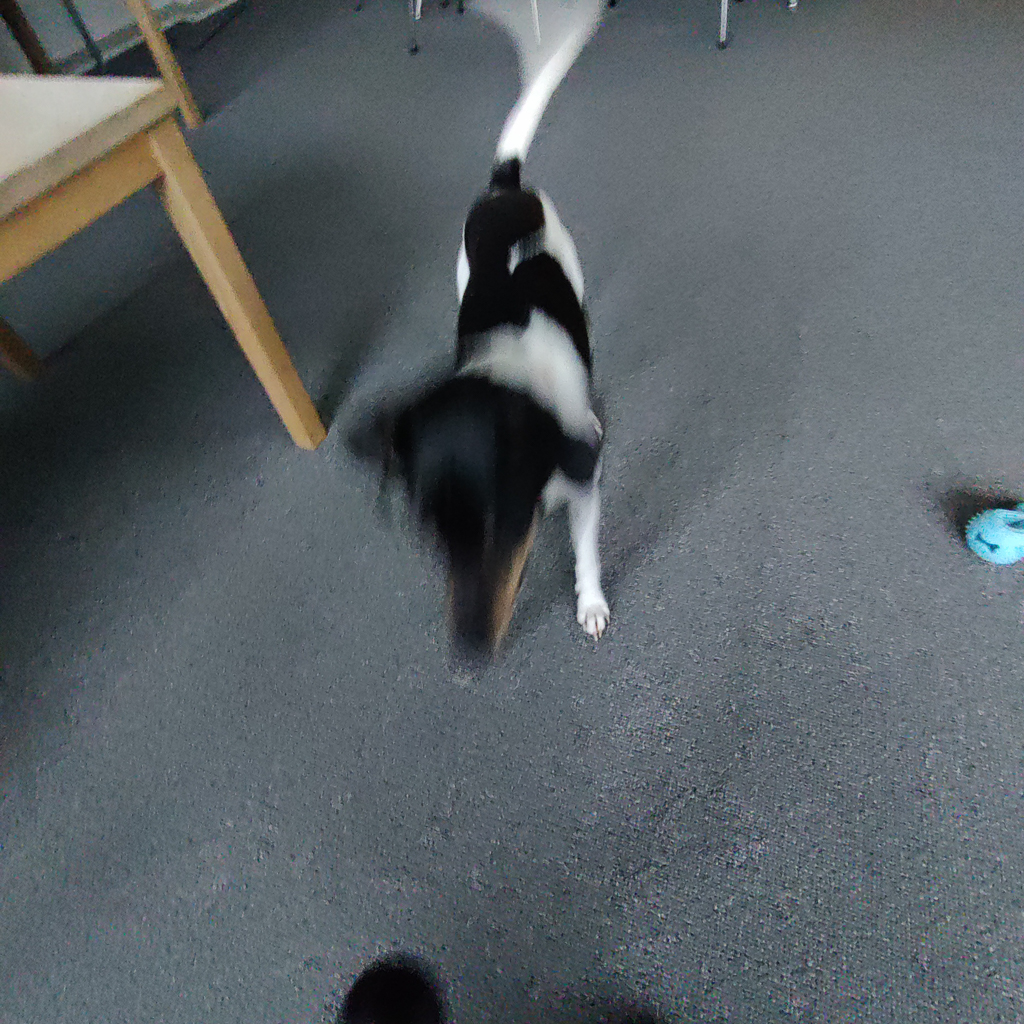Dog: (326, 0, 700, 701)
